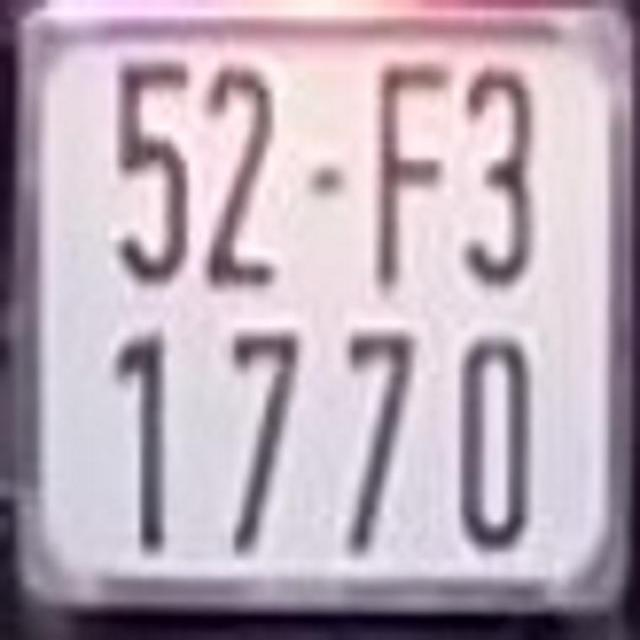0: (458, 330, 530, 553)
1: (114, 327, 169, 544)
2: (203, 61, 280, 292)
3: (466, 67, 530, 279)
5: (116, 56, 190, 279)
7: (226, 327, 300, 560), (348, 321, 415, 546)
F: (375, 58, 452, 285)
